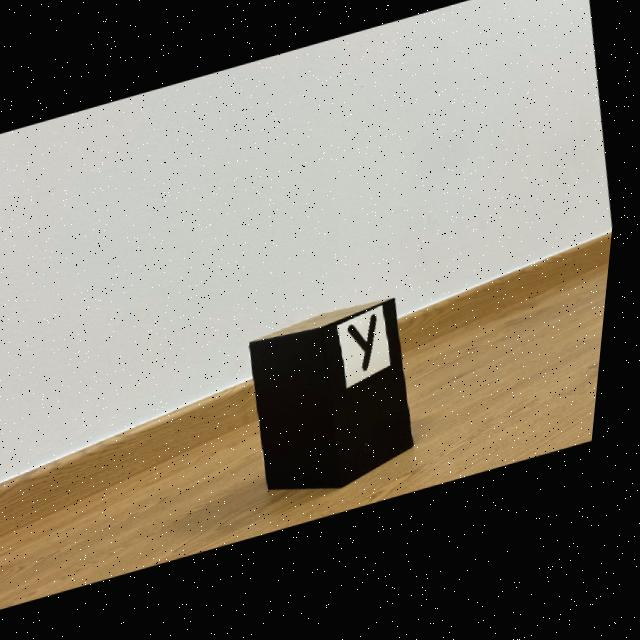Y: (355, 323, 384, 378)
